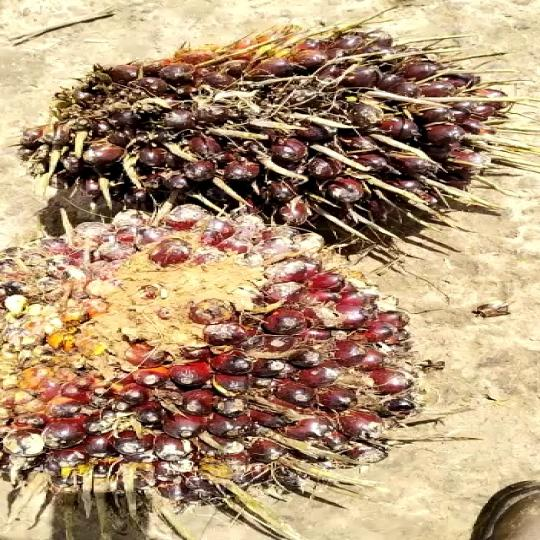kurang masak: (0, 208, 442, 506), (44, 19, 506, 261)
